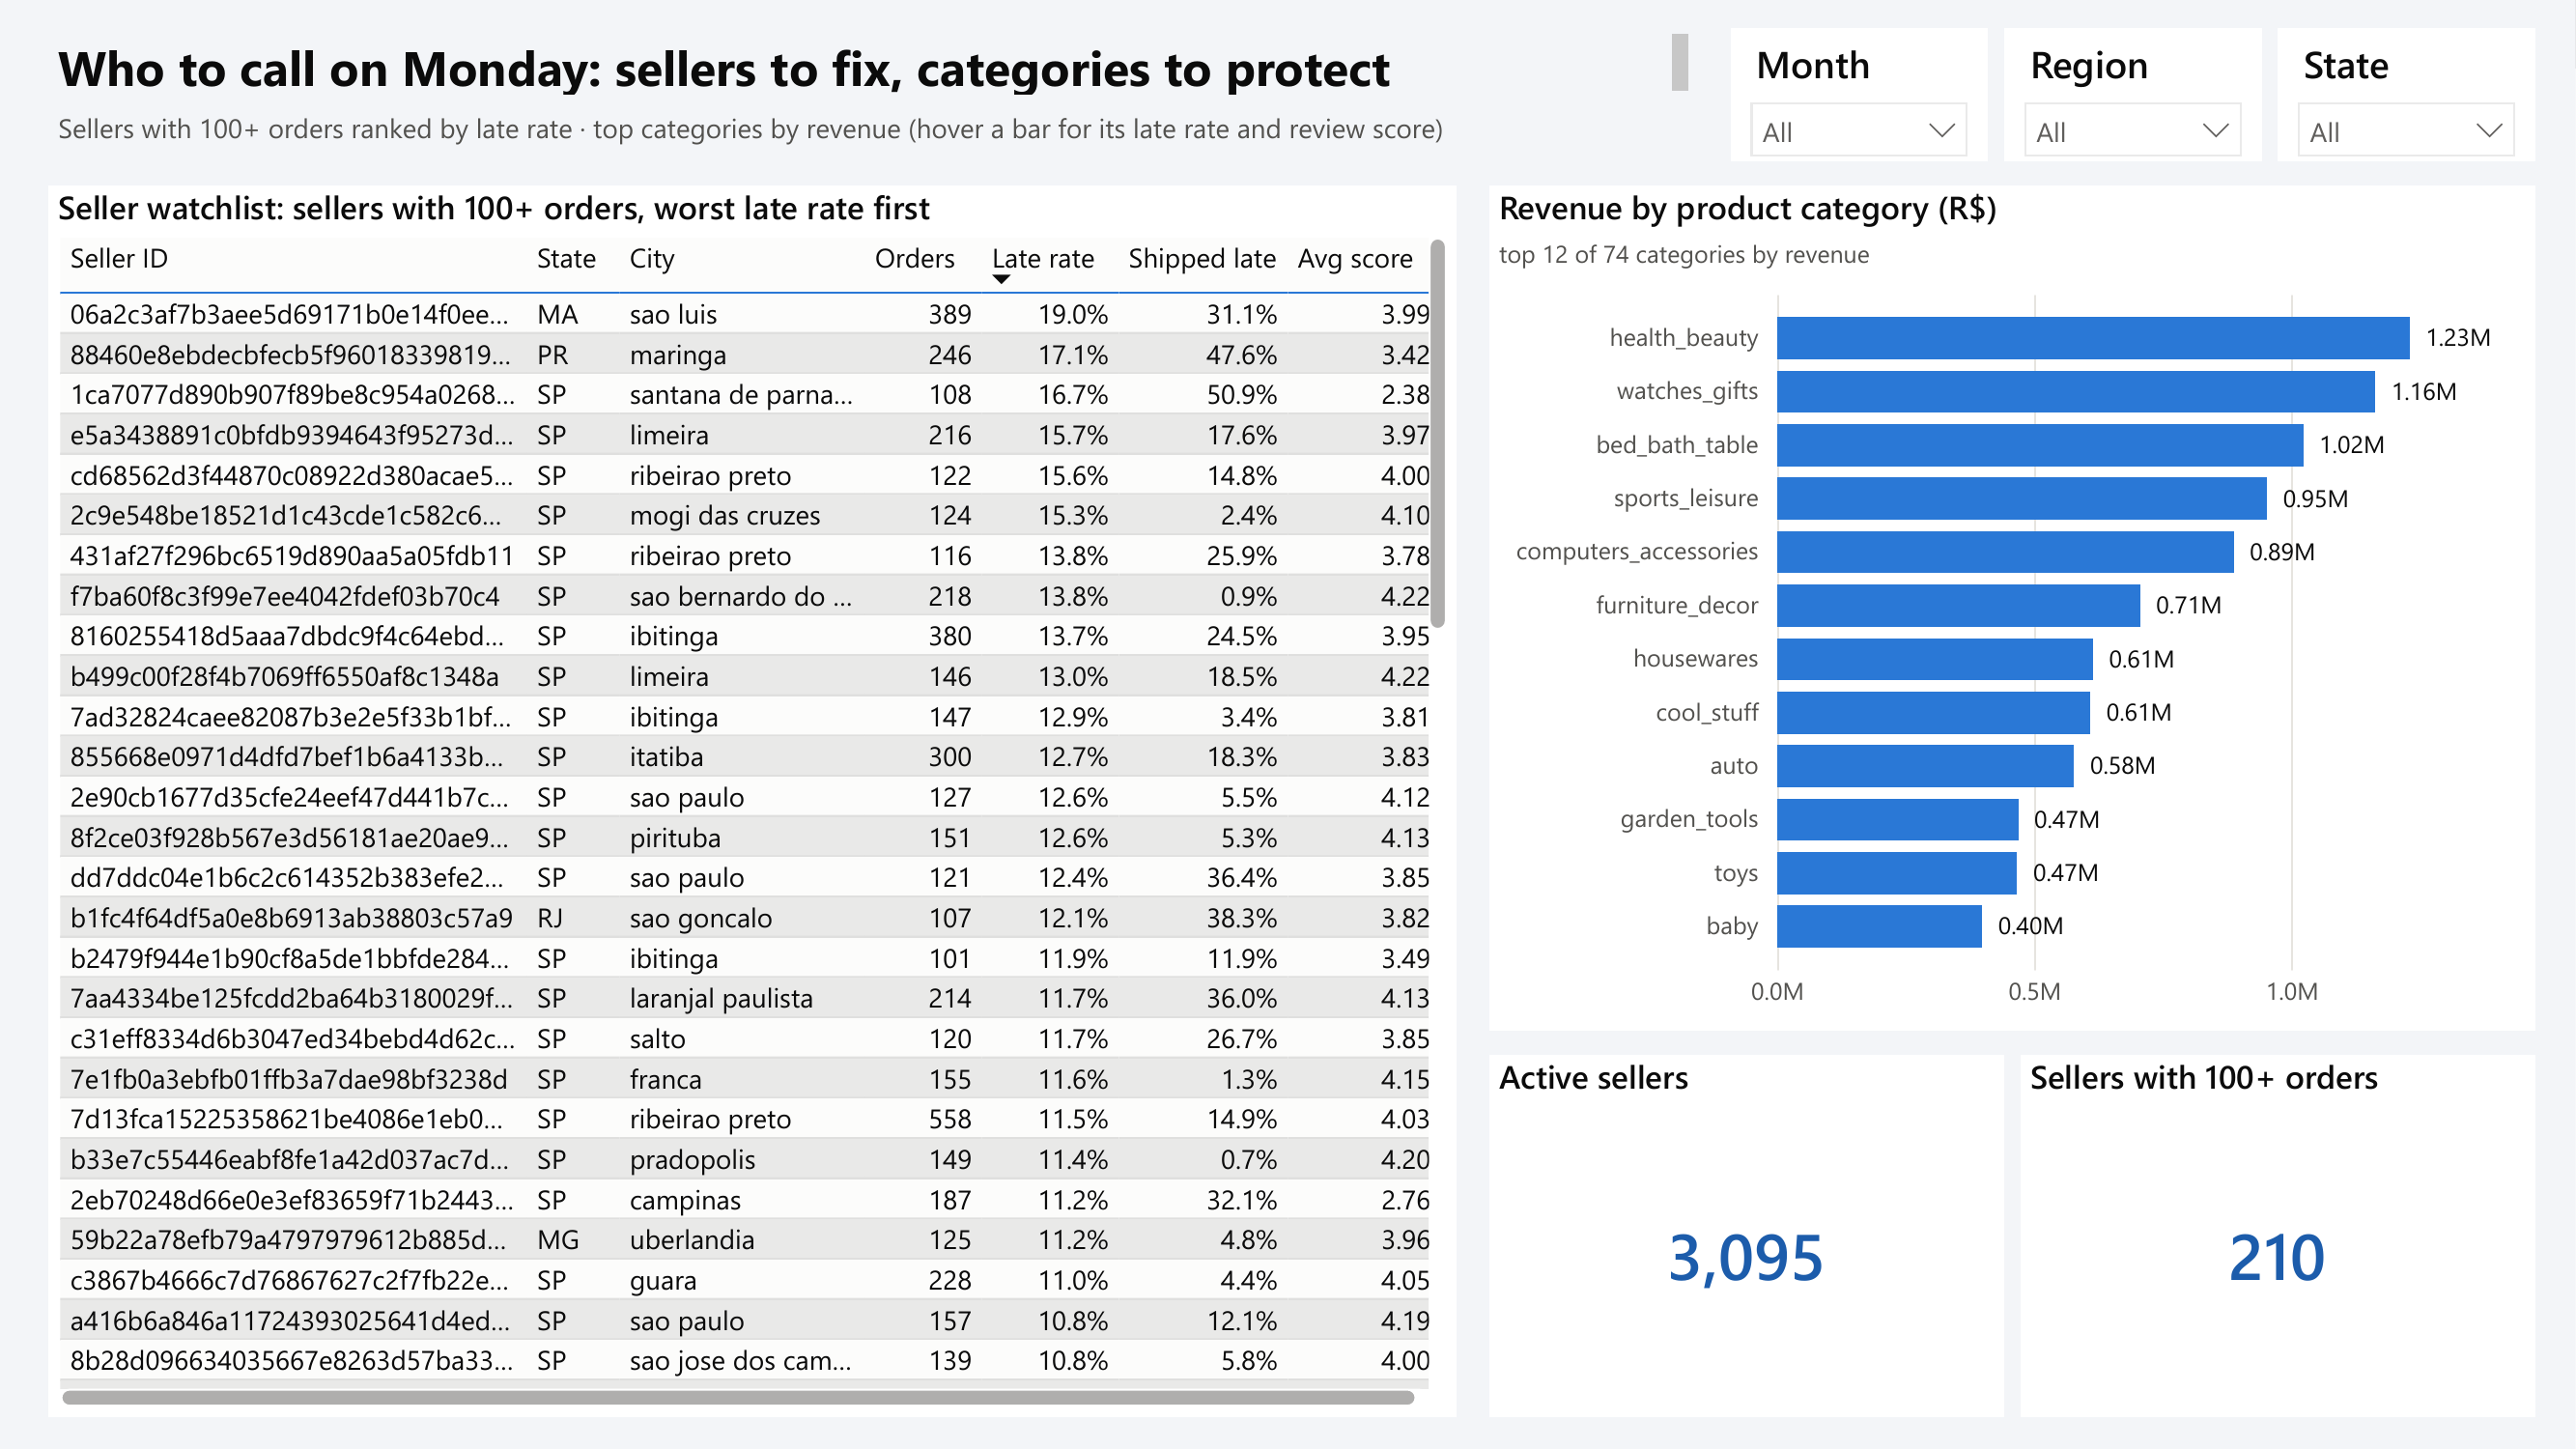

Layout of this report page (visuals, bound fields, positions):
{"tool":"powerbi","page":{"name":"Sellers & Categories","canvas":[1280,720],"ordinal":3},"visuals":[{"type":"textbox","box":[24,12,820,40],"z":1000},{"type":"textbox","box":[24,50,900,34],"z":1001},{"type":"slicer","fields":{"Values":["dim_date.year_month"]},"box":[860,14,128,66],"z":1002},{"type":"slicer","fields":{"Values":["dim_state.region"]},"box":[996,14,128,66],"z":1003},{"type":"slicer","fields":{"Values":["dim_state.state"]},"box":[1132,14,128,66],"z":1004},{"type":"tableEx","title":"Seller watchlist: sellers with 100+ orders, worst late rate first","fields":{"Values":["dim_seller.seller_id","dim_seller.seller_state","dim_seller.seller_city","_Measures.Seller Orders","_Measures.Seller Late Rate","_Measures.Seller Shipped After Deadline %","_Measures.Seller Avg Review Score"]},"box":[24,92,700,612],"z":1005},{"type":"barChart","title":"Revenue by product category (R$)","fields":{"Category":["dim_product.category"],"Y":["_Measures.Items Revenue"]},"box":[740,92,520,420],"z":1006},{"type":"card","title":"Active sellers","fields":{"Values":["_Measures.Sellers"]},"box":[740,524,256,180],"z":1007},{"type":"card","title":"Sellers with 100+ orders","fields":{"Values":["_Measures.Sellers with 100+ Orders"]},"box":[1004,524,256,180],"z":1008}]}

Visuals, with their boxes in screenshot pixels (x1, y1, x2, y2), scaled from the page's 1280x720 canvas onto the 2576x1449 screenshot:
textbox: (48,24,1699,104)
textbox: (48,100,1859,169)
slicer - dim_date.year_month: (1731,28,1989,161)
slicer - dim_state.region: (2004,28,2262,161)
slicer - dim_state.state: (2279,28,2535,161)
"Seller watchlist: sellers with 100+ orders, worst late rate first" tableEx: (48,185,1458,1417)
"Revenue by product category (R$)" barChart: (1489,185,2535,1031)
"Active sellers" card: (1489,1055,2004,1417)
"Sellers with 100+ orders" card: (2021,1055,2535,1417)
